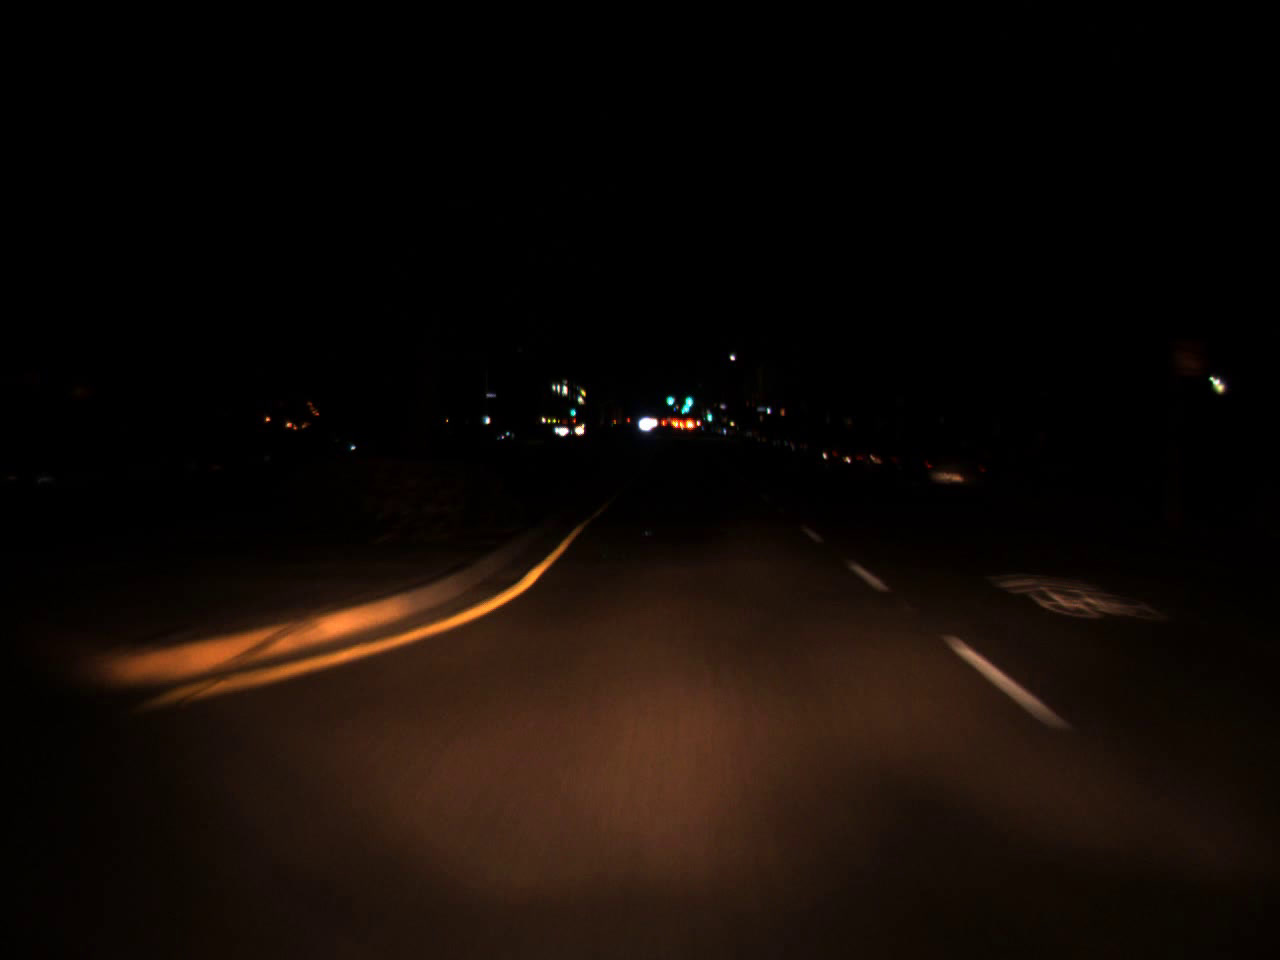go: (680, 386, 694, 410), (666, 387, 673, 408), (706, 403, 713, 424), (568, 401, 575, 419)
